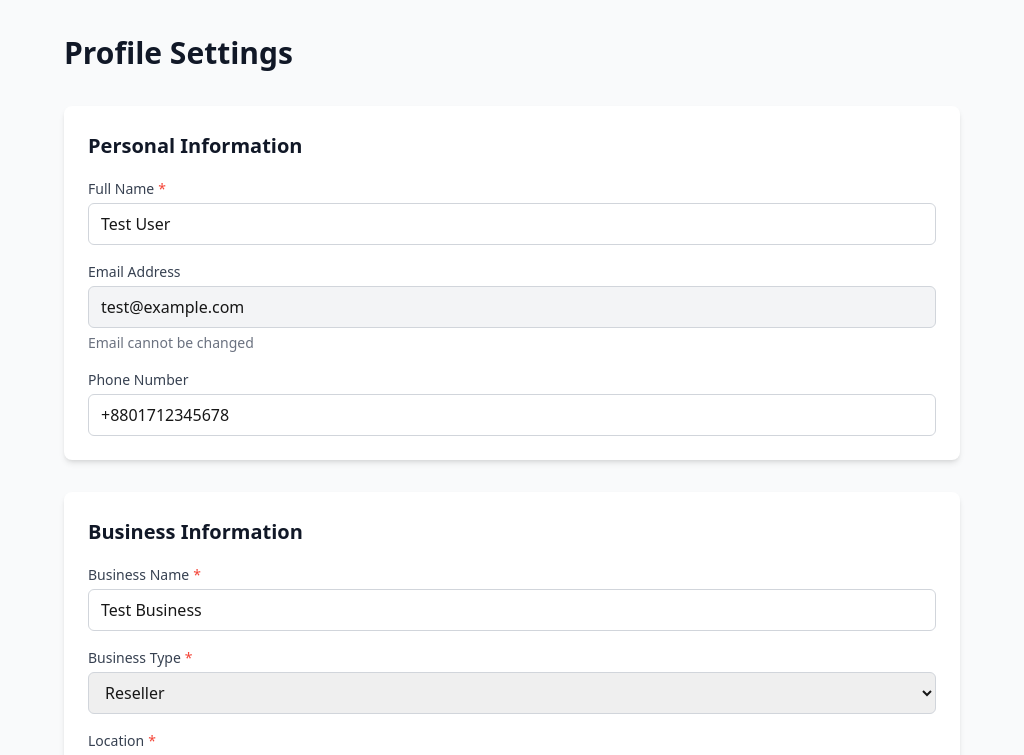
ProfileSettingsPage › Requirement 11.4: Allow users to update profile information › should display error message on update failure
Replace the text in the field showing "Test User" with "Updated Name" at point(512, 224), box 88,203 -> 936,245
(page scrolled)
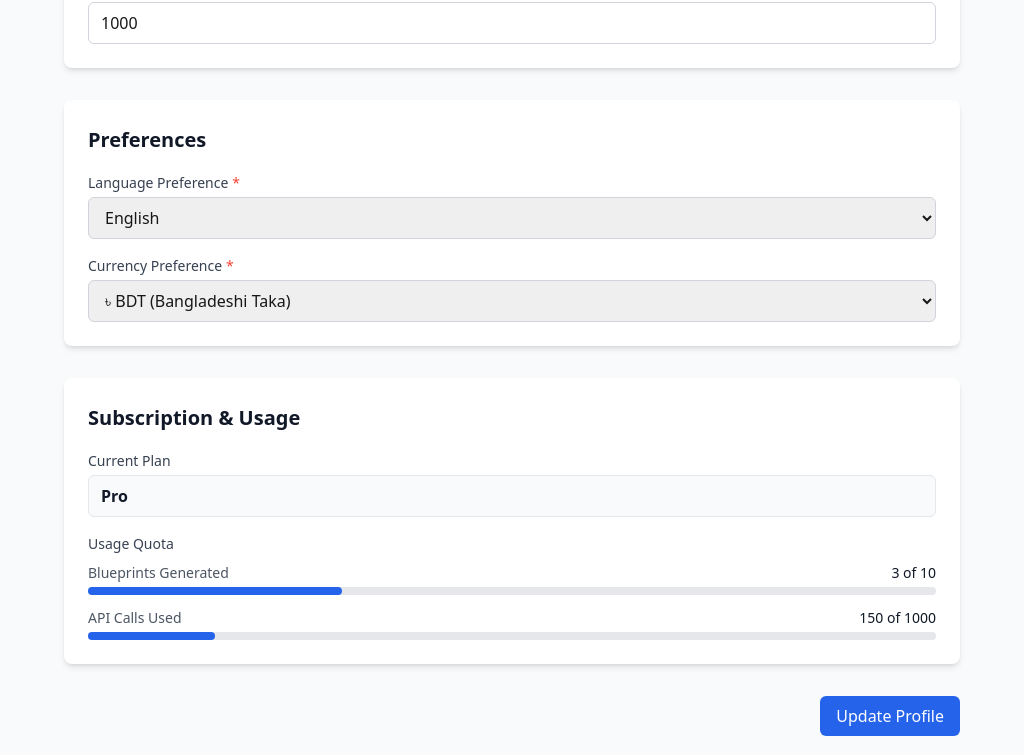
Click the button "Update Profile" at point(890, 716), box 820,696 -> 960,736
(page scrolled)
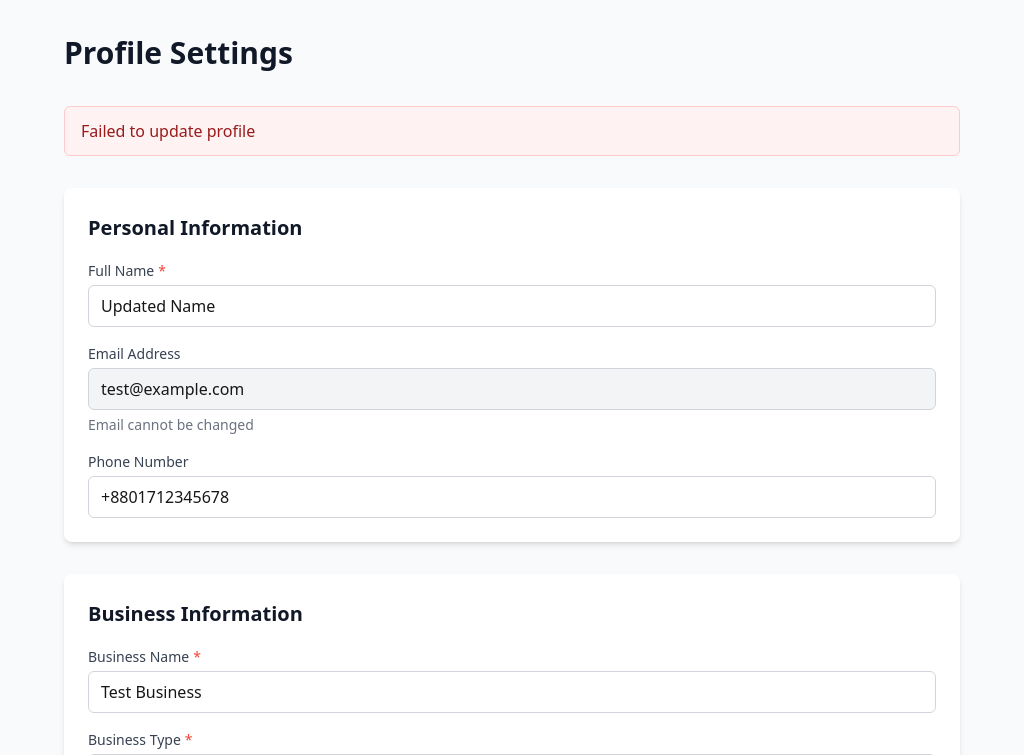
Result: the text "Failed to update profile" is shown at 64,106 -> 960,156
